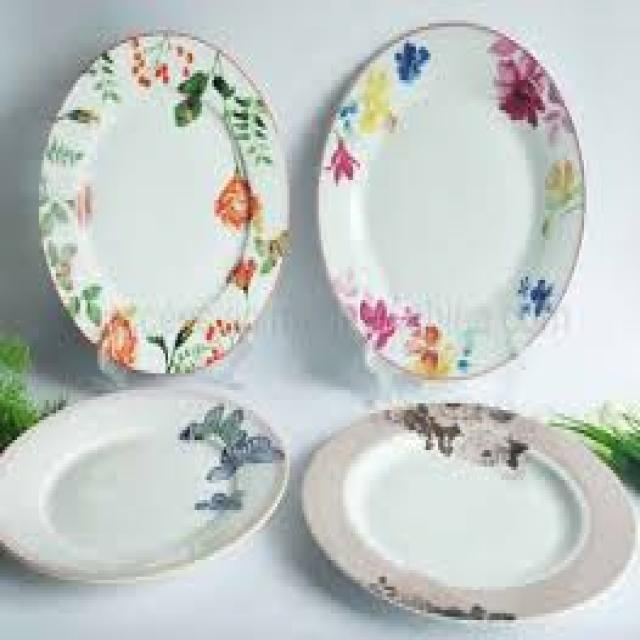Plate: (309, 14, 588, 377), (32, 23, 295, 377), (303, 400, 630, 625), (0, 384, 288, 587)
